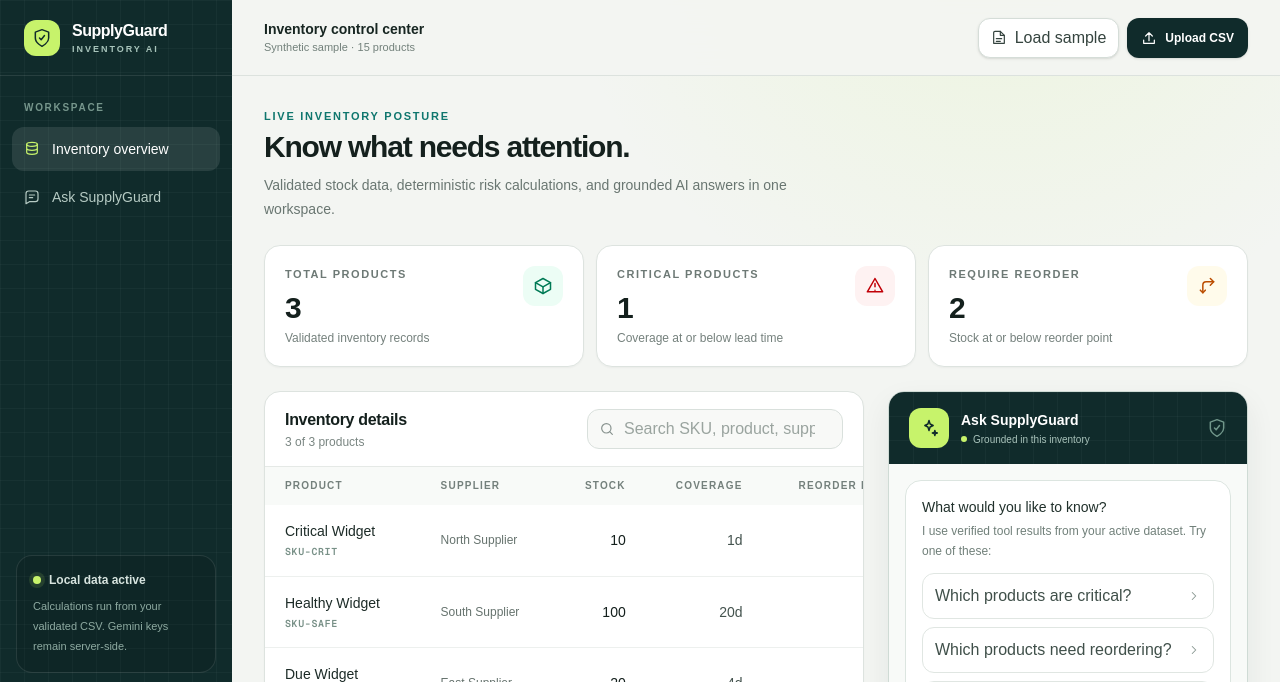
Scenario: InventoryDashboard › clears previous answers and recalculates when a new CSV is uploaded
This screenshot has width=1280, height=682.
Later steps or results of the test are not shown.
Click the button "Which products are critical?" at [1068, 596], box [922, 573, 1214, 619]
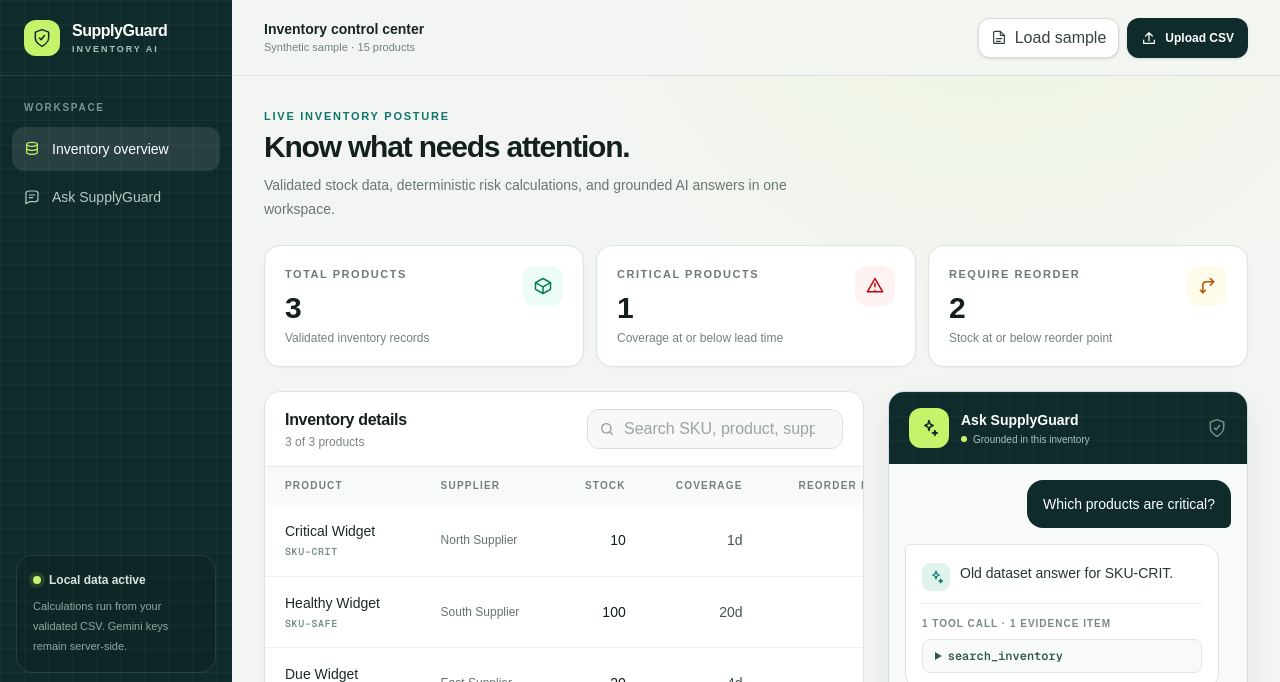
expect the text "Old dataset answer for SKU-CRIT." is shown: met, box [960, 565, 1173, 581]
